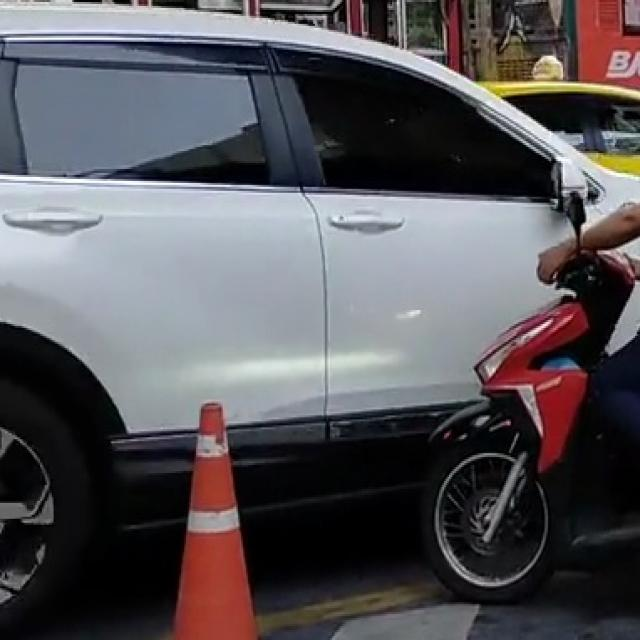door: (272, 46, 586, 431)
helmet: (553, 246, 635, 360)
tyre: (0, 322, 124, 638), (419, 433, 556, 602)
